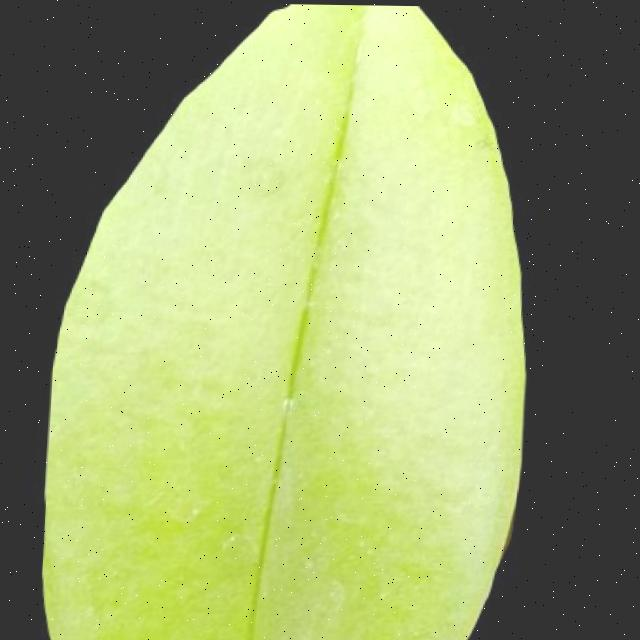mite: (459, 624, 565, 640), (251, 166, 292, 201), (443, 101, 483, 134), (330, 578, 356, 611), (474, 134, 501, 153), (259, 3, 304, 13), (504, 638, 566, 640)
spots: (42, 1, 551, 640)
